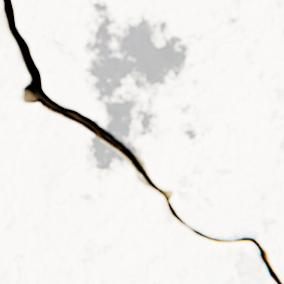broken_brick: (0, 0, 274, 283), (13, 0, 283, 281)
crack: (2, 0, 283, 283)
